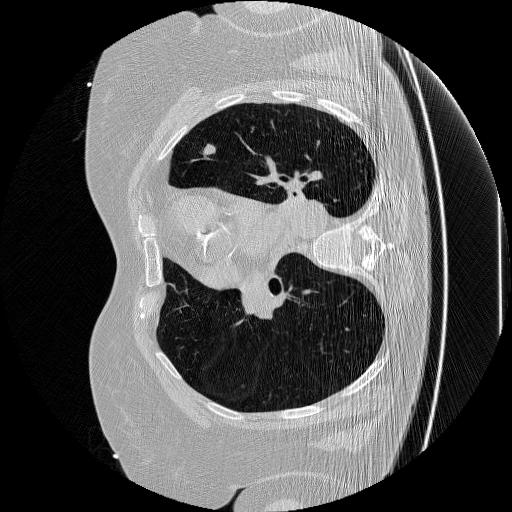nodule: (201, 143, 217, 159)
